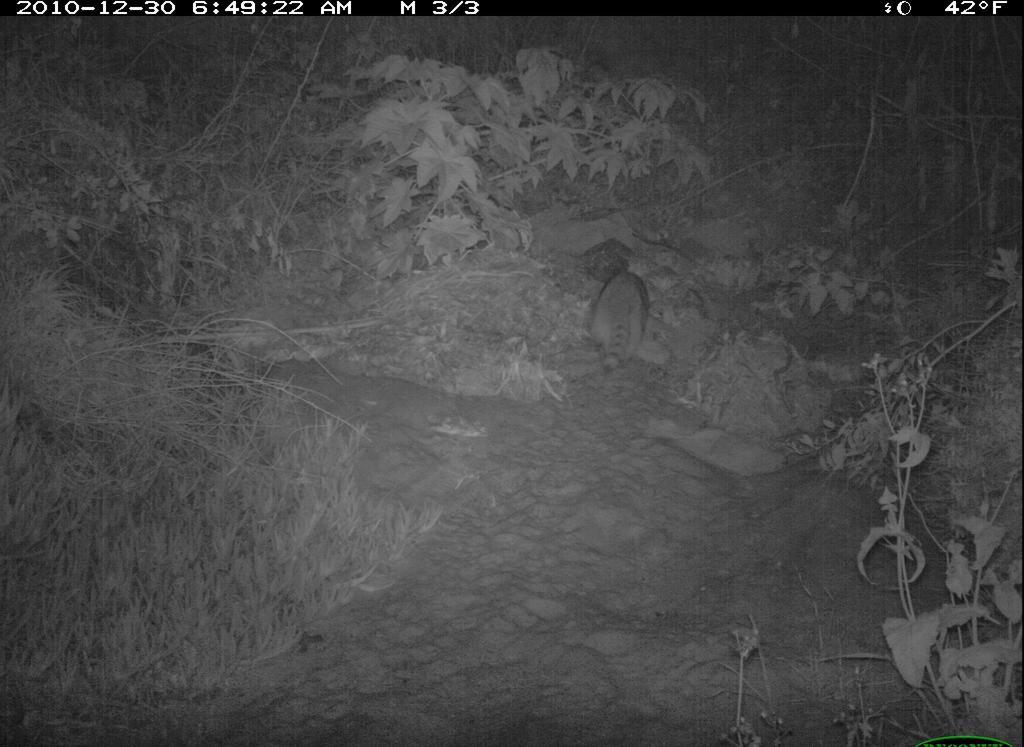raccoon: (582, 260, 655, 370)
